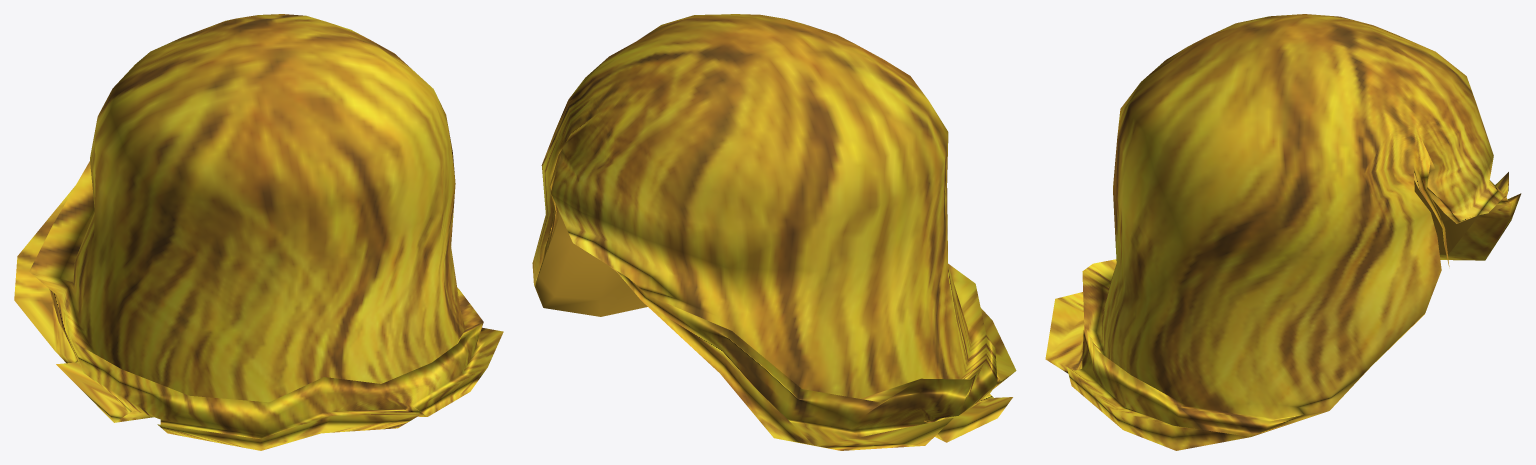
The picture shows the model from 3 angles, left to right: view 1: azimuth 30°, elevation 25°; view 2: azimuth 150°, elevation 25°; view 3: azimuth 270°, elevation 25°; orthographic projection. The views are drawn at different scales.
Parts seen in each view (by area): view 1: geometry_0; view 2: geometry_0; view 3: geometry_0.
Boxes of the visible parts, left/top/right/bottom form: geometry_0: left=14, top=14, right=503, bottom=450; geometry_0: left=532, top=14, right=1016, bottom=450; geometry_0: left=1045, top=14, right=1521, bottom=450.
Size of the model in its own units: 1.6 by 1.29 by 1.64.
Materials: 1 (1 with a texture image).
